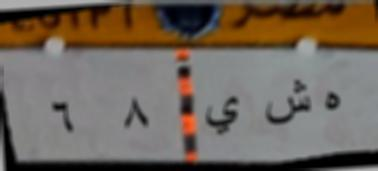8: (116, 84, 156, 138), (46, 93, 82, 136)
haa: (318, 80, 344, 118)
sheen: (260, 73, 314, 130)
yaa: (202, 89, 245, 139)
